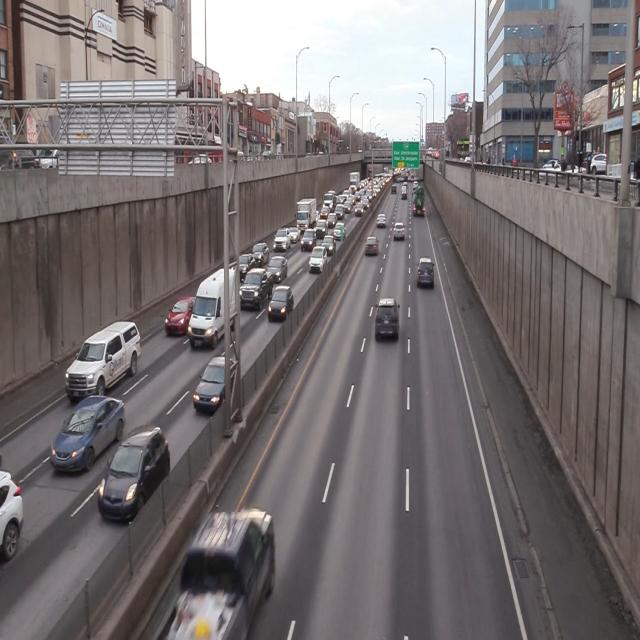Car: (165, 508, 280, 640), (98, 425, 168, 523), (51, 392, 125, 482), (65, 316, 140, 402), (188, 266, 244, 349), (191, 358, 239, 413), (241, 269, 274, 312), (373, 298, 401, 343), (267, 284, 296, 324), (166, 296, 196, 334), (268, 255, 289, 284), (415, 257, 434, 288), (308, 246, 328, 275), (236, 254, 256, 278), (252, 242, 270, 266), (273, 227, 290, 251), (364, 236, 379, 254), (393, 222, 406, 240)
